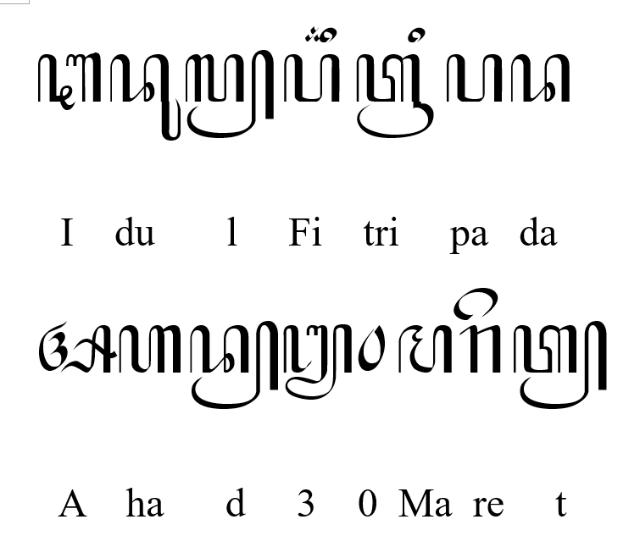-d: (188, 320, 280, 410)
-l: (183, 49, 275, 139)
-t: (511, 320, 609, 410)
0: (357, 324, 385, 372)
A: (38, 320, 118, 374)
I: (36, 52, 102, 112)
alt: (304, 25, 324, 41)
d: (510, 53, 570, 103)
du: (108, 52, 182, 142)
e: (452, 286, 498, 321)
h: (118, 324, 182, 374)
i: (406, 27, 426, 44), (319, 27, 336, 44)
m: (397, 324, 453, 374)
ngya: (283, 324, 353, 401)
p: (445, 52, 503, 104), (283, 53, 341, 103)
r: (458, 326, 502, 375)
tr: (356, 54, 434, 138)
